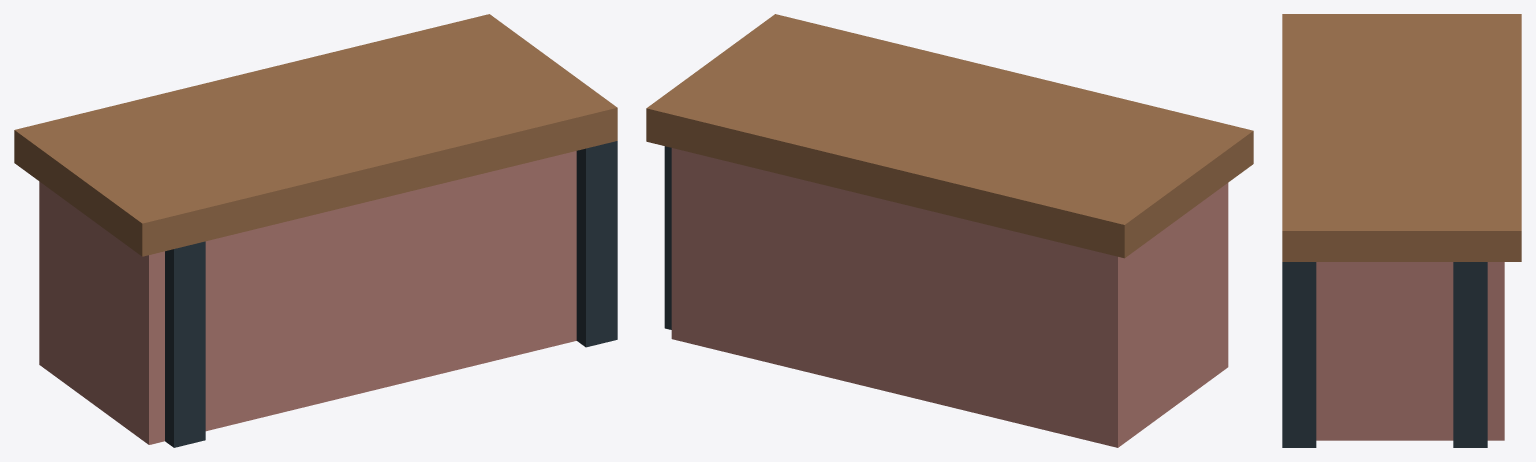
File: commerce-01.glb
3 renders of one model, left to right at view 1: azimuth 30°, elevation 25°; view 2: azimuth 150°, elevation 25°; view 3: azimuth 270°, elevation 25°, orthographic. The views are drawn at different scales.
Parts seen in each view (by area): view 1: Shop counter; view 2: Shop counter; view 3: Shop counter.
Part boxes in pixels (left/top/right/bottom): Shop counter: left=14, top=14, right=617, bottom=447; Shop counter: left=646, top=14, right=1253, bottom=447; Shop counter: left=1282, top=14, right=1521, bottom=447.
Size of the model in its own units: 2.4 by 1.12 by 1.12.
